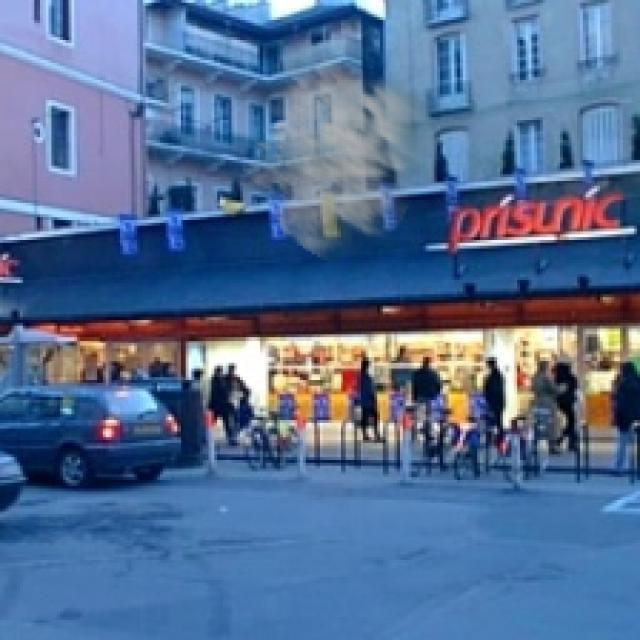Smoke: (241, 45, 448, 268)
